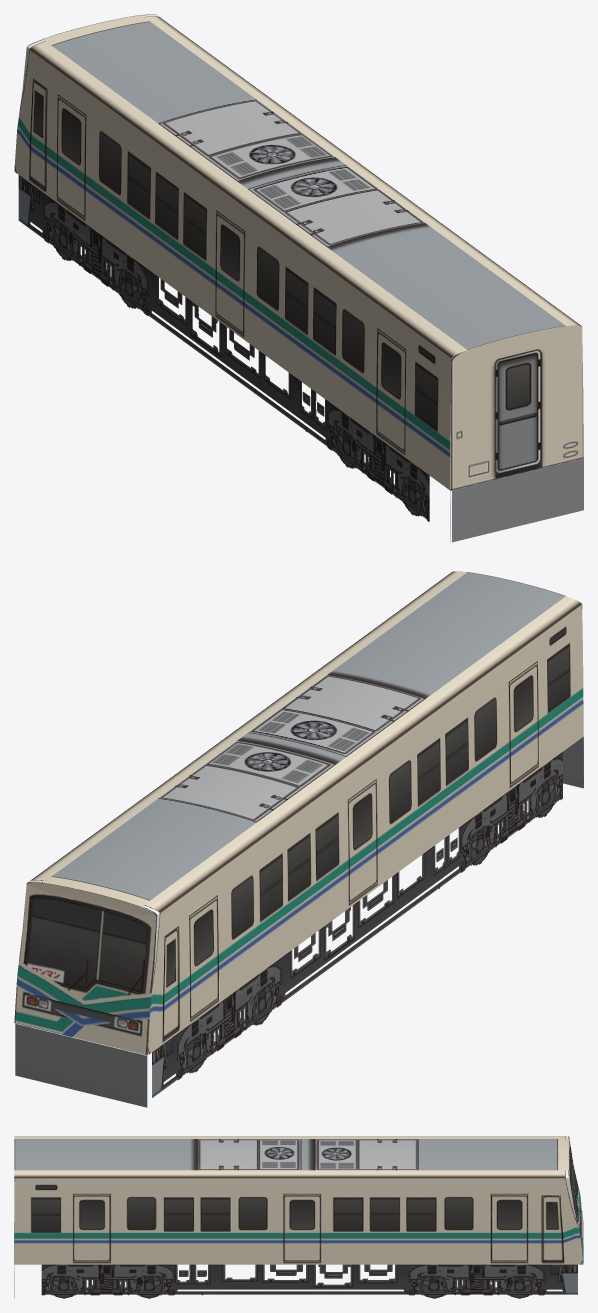
Rendered from car1.glb.
3 views of the same model, one above another, from view 1: azimuth 30°, elevation 25°; view 2: azimuth 150°, elevation 25°; view 3: azimuth 270°, elevation 25° (orthographic). The views are drawn at different scales.
Parts seen in each view (by area): view 1: car1.glb; view 2: car1.glb; view 3: car1.glb.
Boxes of the visible parts, <box> form: car1.glb: <box>14,14,583,542</box>; car1.glb: <box>14,571,583,1107</box>; car1.glb: <box>14,1136,583,1298</box>.
Bounding box in the file's own units: 2.69 × 3.67 × 15.25.
8 materials, 7 textured.
